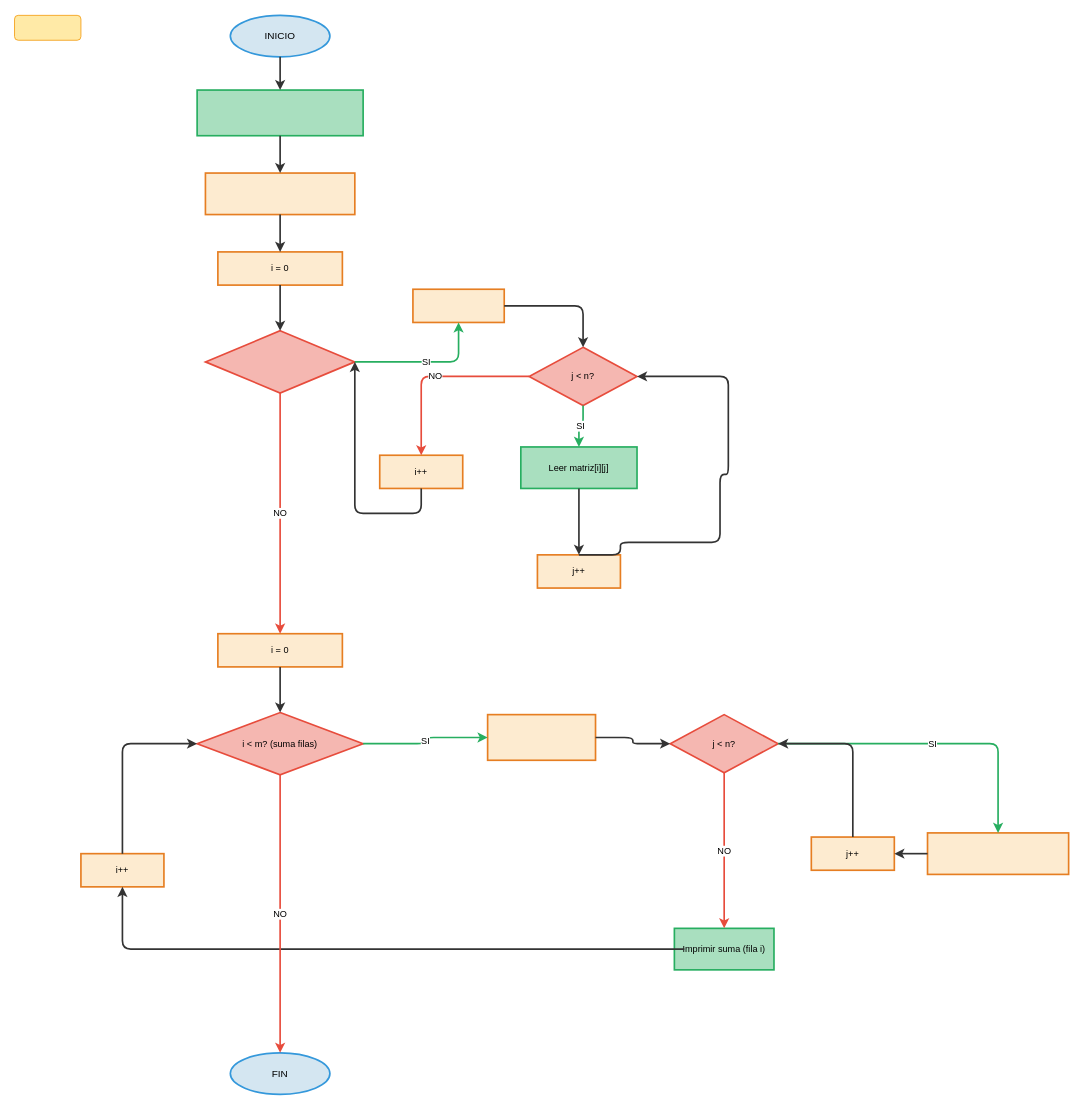
The diagram is 1084 pixels wide and 1109 high, and some of its shapes have lost their labels. Each missing label, with the centre of its shape:
"i < m? (leer)" goes at [279,361].
"j = 0" goes at [458,305].
"Leer m, n" goes at [280,112].
"matriz[m][n]" goes at [279,193].
"O(m*n)" goes at [47,27].
"suma += matriz[i][j]" goes at [997,853].
"suma = 0 j = 0" goes at [541,737].
